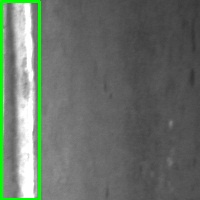scratches: (1, 1, 39, 199)
